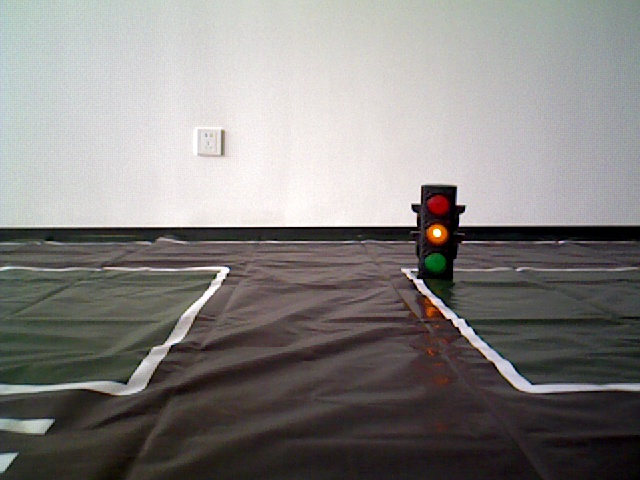yellow: (420, 185, 455, 271)
